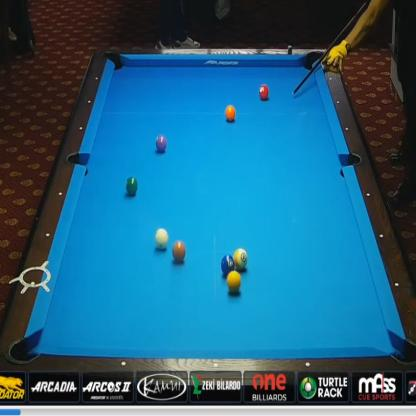Ball: (172, 240, 186, 264), (227, 271, 241, 294), (155, 228, 169, 250), (221, 254, 235, 276), (235, 248, 248, 270), (126, 176, 138, 197), (156, 134, 168, 152), (225, 104, 236, 122), (259, 84, 269, 100)
